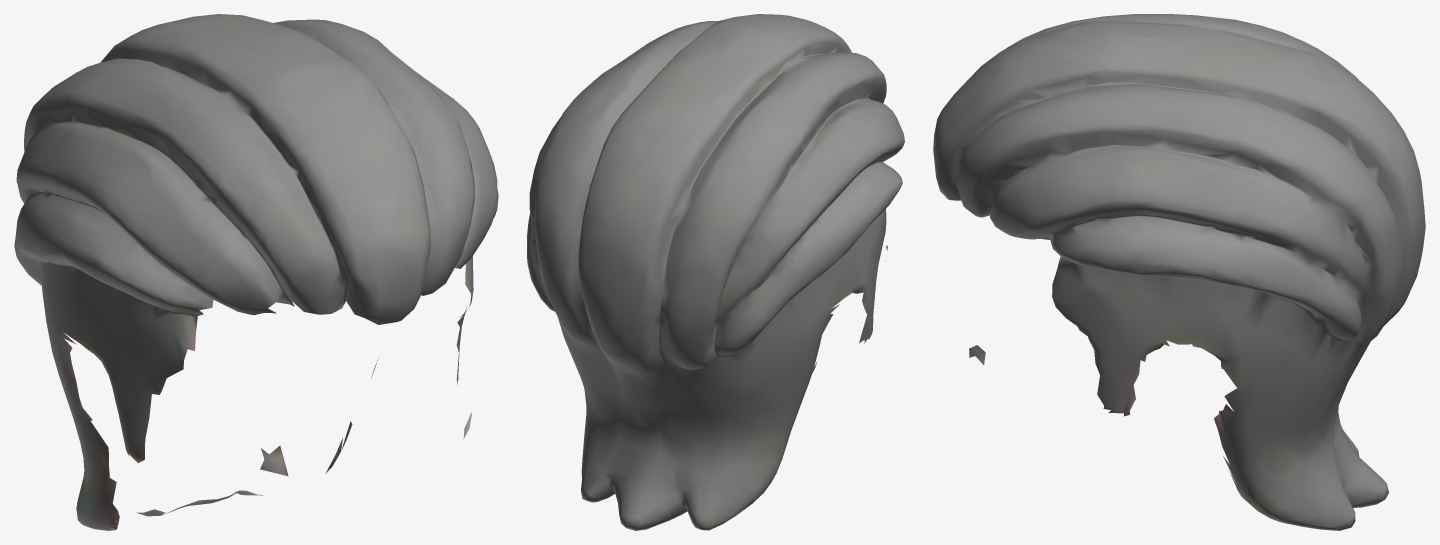
The model's file is hair-m-slick-back.glb.
3 renders of one model, left to right at view 1: azimuth 30°, elevation 25°; view 2: azimuth 150°, elevation 25°; view 3: azimuth 270°, elevation 25°, orthographic. The views are drawn at different scales.
Parts seen in each view (by area): view 1: hair-m-slick-back; view 2: hair-m-slick-back; view 3: hair-m-slick-back.
Part boxes in pixels (bbox=[...]): hair-m-slick-back: bbox=[14, 14, 498, 530]; hair-m-slick-back: bbox=[527, 14, 904, 530]; hair-m-slick-back: bbox=[933, 14, 1425, 530].
Size of the model in its own units: 0.9096 by 1.16 by 1.1.
1 material, 1 textured.
